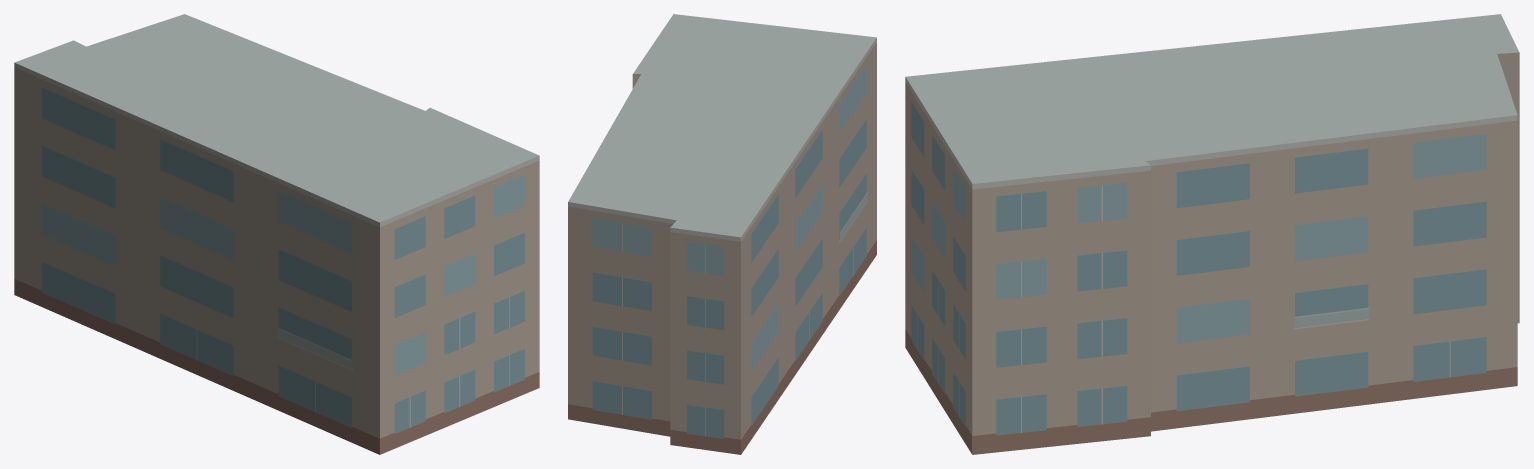
File: survey-upis-32950424.glb
3 views of the same model, side by side, from view 1: azimuth 30°, elevation 25°; view 2: azimuth 150°, elevation 25°; view 3: azimuth 270°, elevation 25° (orthographic). The views are drawn at different scales.
Parts seen in each view (by area): view 1: survey-upis-32950424.tmp; view 2: survey-upis-32950424.tmp; view 3: survey-upis-32950424.tmp.
Part boxes in pixels (x1,y1,x2,y2): survey-upis-32950424.tmp: [14, 14, 539, 454]; survey-upis-32950424.tmp: [568, 14, 876, 454]; survey-upis-32950424.tmp: [905, 14, 1519, 454].
Bounding box in the file's own units: 16.02 × 11.9 × 24.46.
